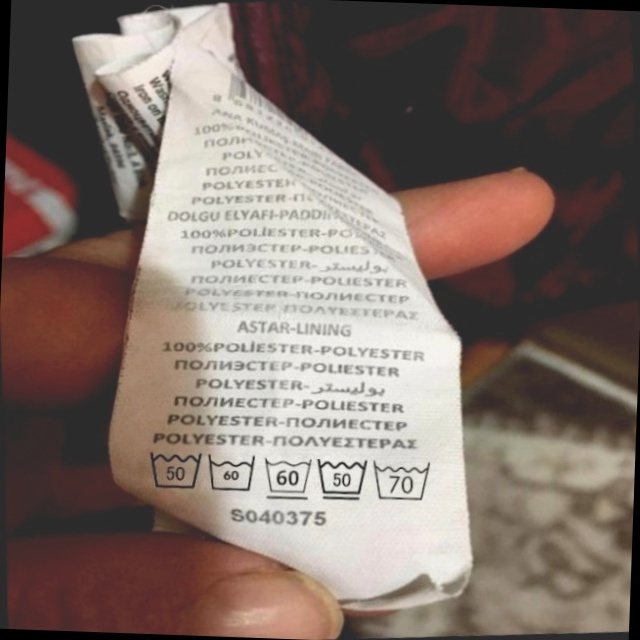50C: (141, 441, 208, 497), (313, 452, 373, 506)
60C: (261, 450, 318, 503), (204, 448, 262, 499)
70C: (371, 455, 439, 506)
